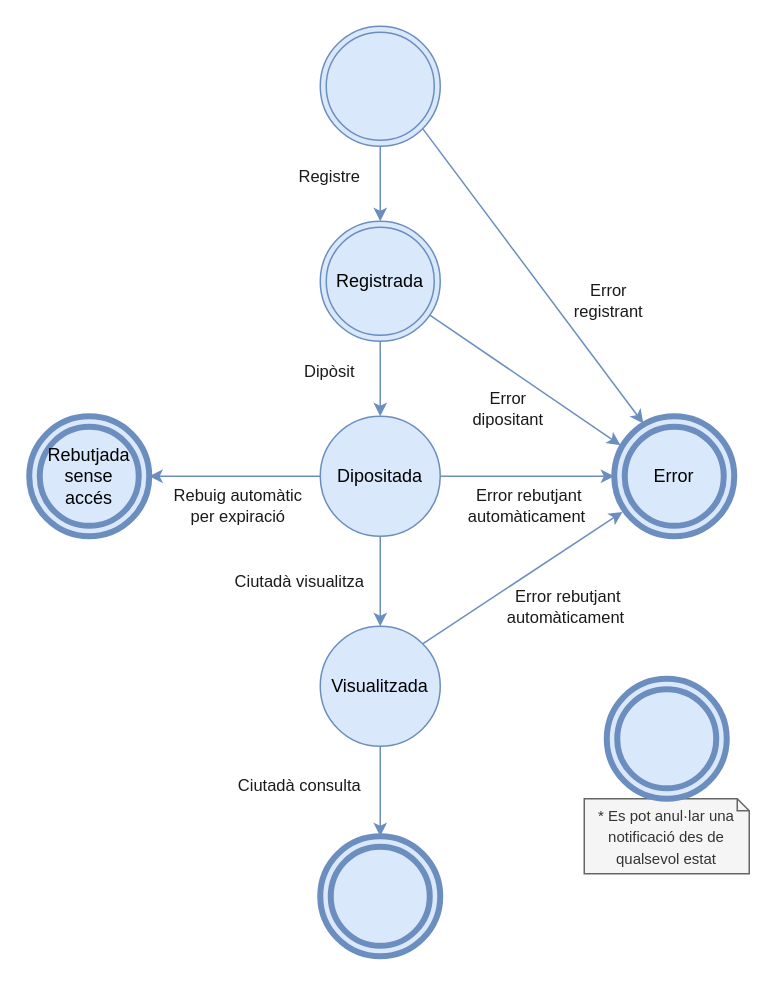
Some shapes in this 776 by 986 pixel diagram are drawn without their labels. The shapes that lost their labels are listed below. From the top down, each one's centre as x and y in pixels, then its label:
At (379,85): "Pendent de registrar".
At (666,738): "Anul·lada*".
At (379,895): "Acceptada".
